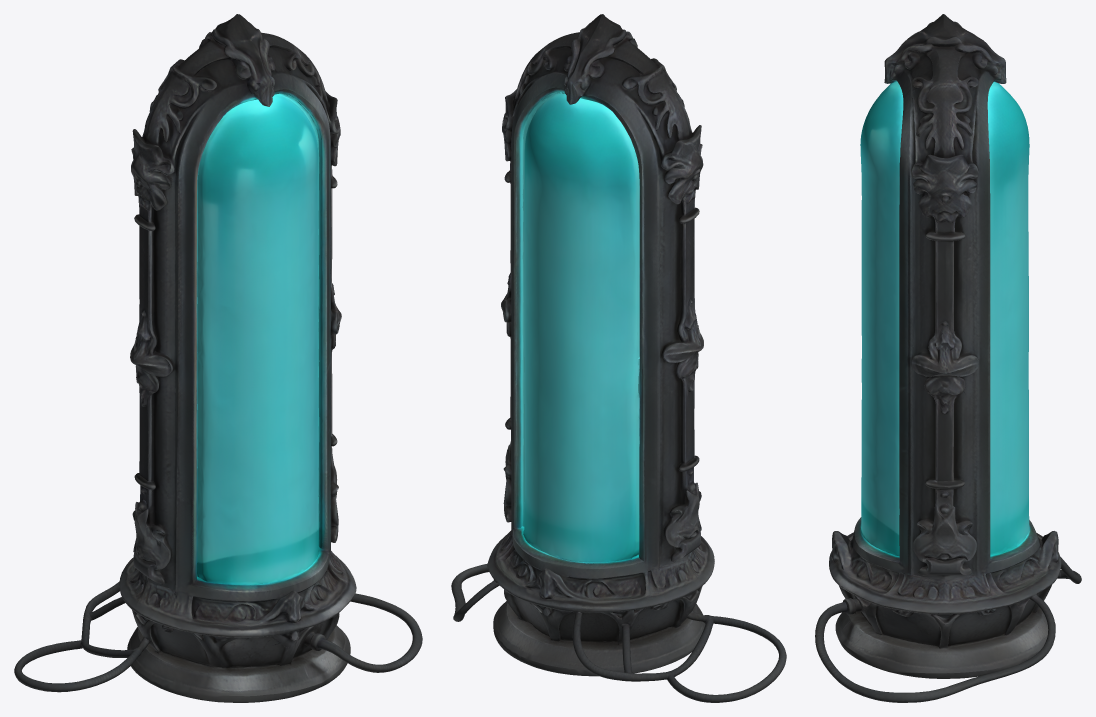
3 views of the same model, side by side, from view 1: azimuth 30°, elevation 25°; view 2: azimuth 150°, elevation 25°; view 3: azimuth 270°, elevation 25° (orthographic). The views are drawn at different scales.
Visible parts, largest first — view 1: model; view 2: model; view 3: model.
Boxes of the visible parts, x1,y1,x2,y2 form: model: (14,14,422,702); model: (451,14,786,702); model: (815,14,1081,702).
Bounding box in the file's own units: 1.1 × 1.9 × 0.7407.
1 material, 1 textured.
